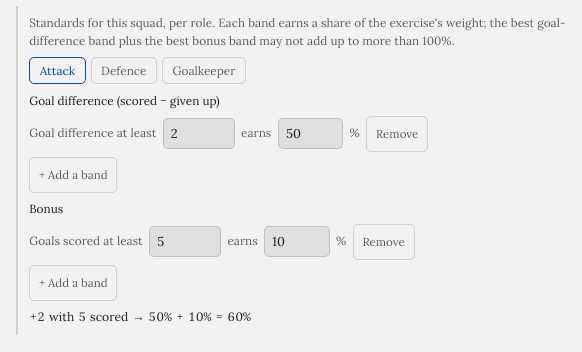
GoalBandsEditor › words a defender's bonus on goals given up
Click the tab "Defence": x=124, y=71 x1=90 y1=57 x2=157 y2=84
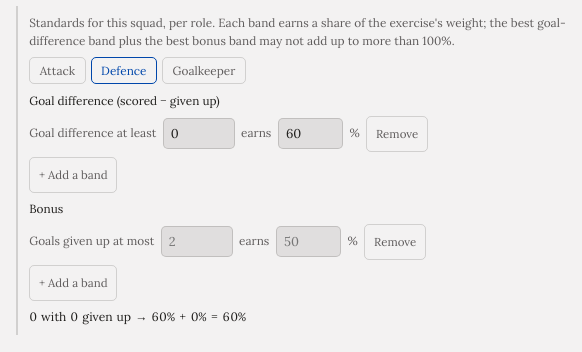
Expected: the element showing "Bonus Goals given up at most earns % Remove + Add a band" is shown, x1=29 y1=201 x2=426 y2=301
Expected: the text "0 with 0 given up → 60% + 0% = 60%" is shown, x1=29 y1=309 x2=246 y2=324
